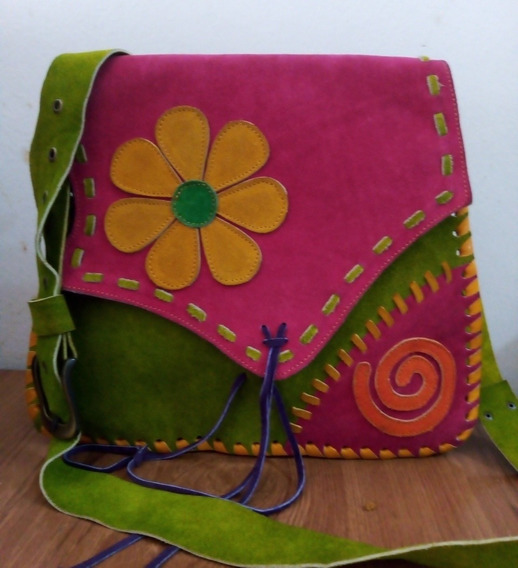cartera: (26, 46, 483, 460)
